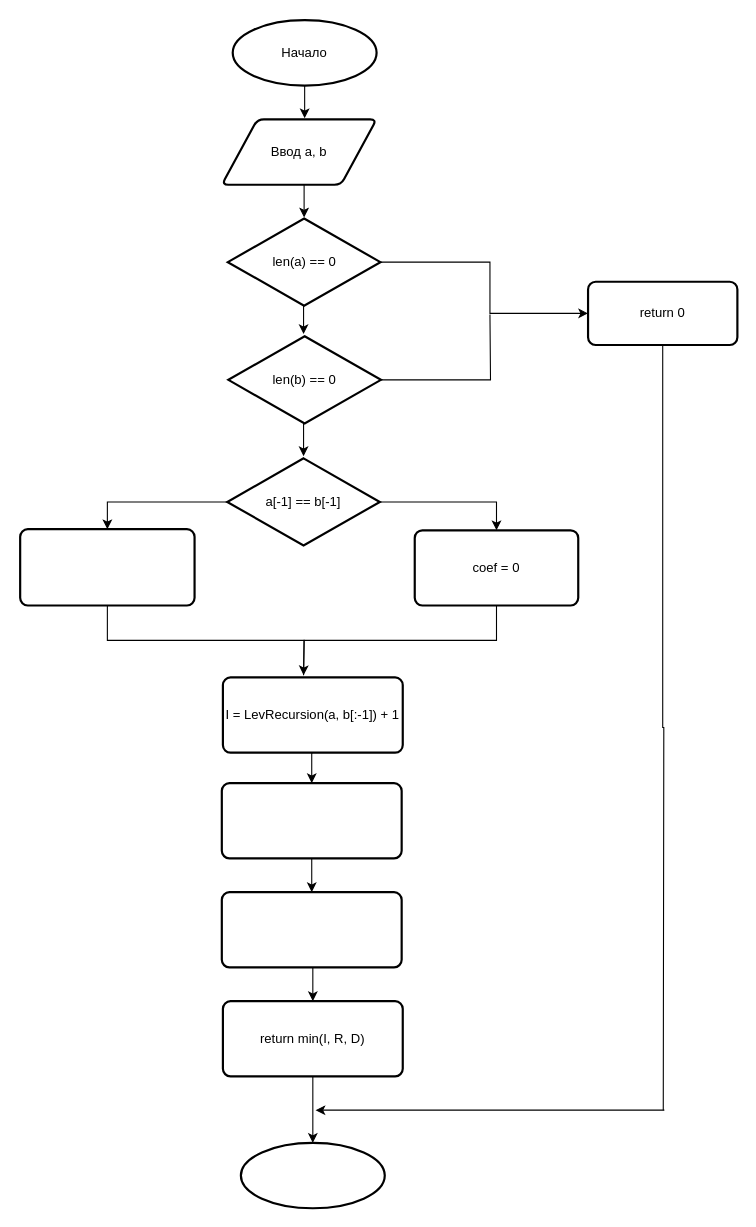
This 756x1227 diagram has some shape labels left out. The box of each missing label's shape, as (x1, y1, x2, y2) in pixels:
coef = 1: (19, 528, 195, 606)
D = LevRecursion(a[:-1], b) + 1: (220, 782, 402, 859)
R = LevRecursion(a[:-1], b[:-1]) + coef: (220, 891, 402, 968)
Конец: (239, 1141, 385, 1209)
